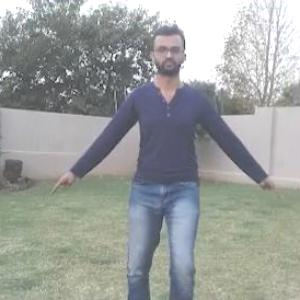land: (27, 13, 299, 299)
